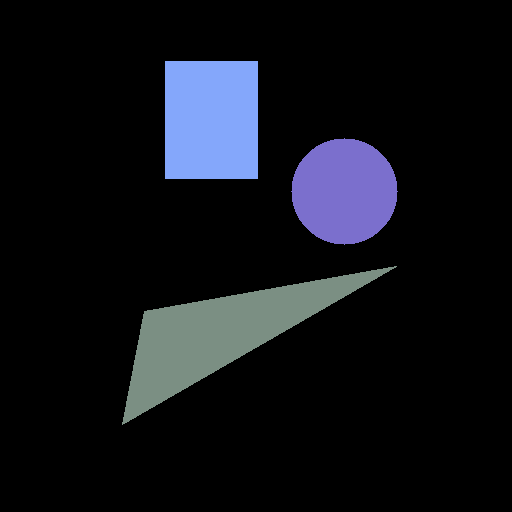circle: (291, 138, 397, 244)
rectangle: (165, 61, 257, 178)
triangle: (122, 266, 396, 424)
